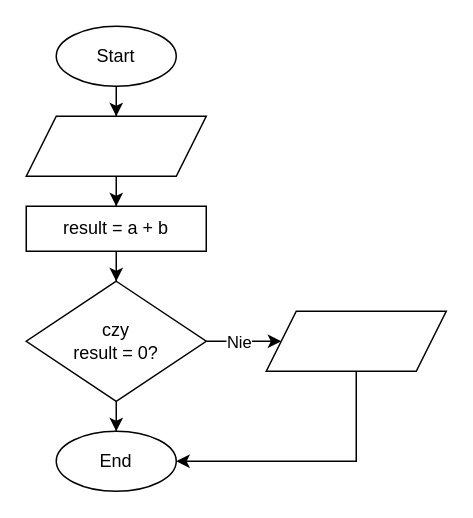
Some shapes in this 473 by 518 pixel diagram are drawn without their labels. Here are the shapes that lost their labels. From the top down, the centre of each, then its label:
At point (115, 145): "Wczytaj a i b".
At point (355, 340): "Wypisz result".
